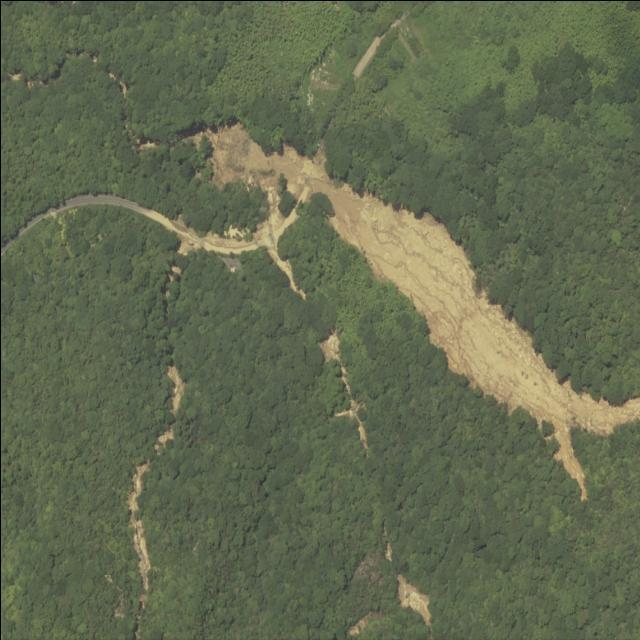landslide: (168, 122, 640, 499), (397, 574, 430, 628)
